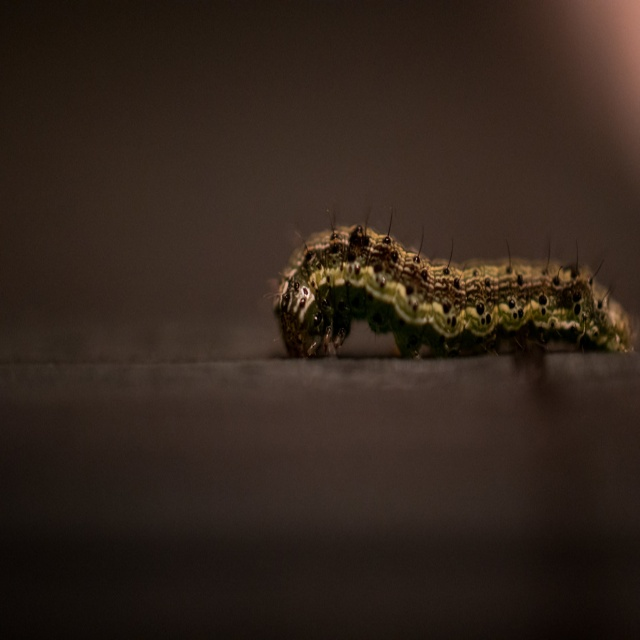Caterpillar: (259, 203, 636, 360)
